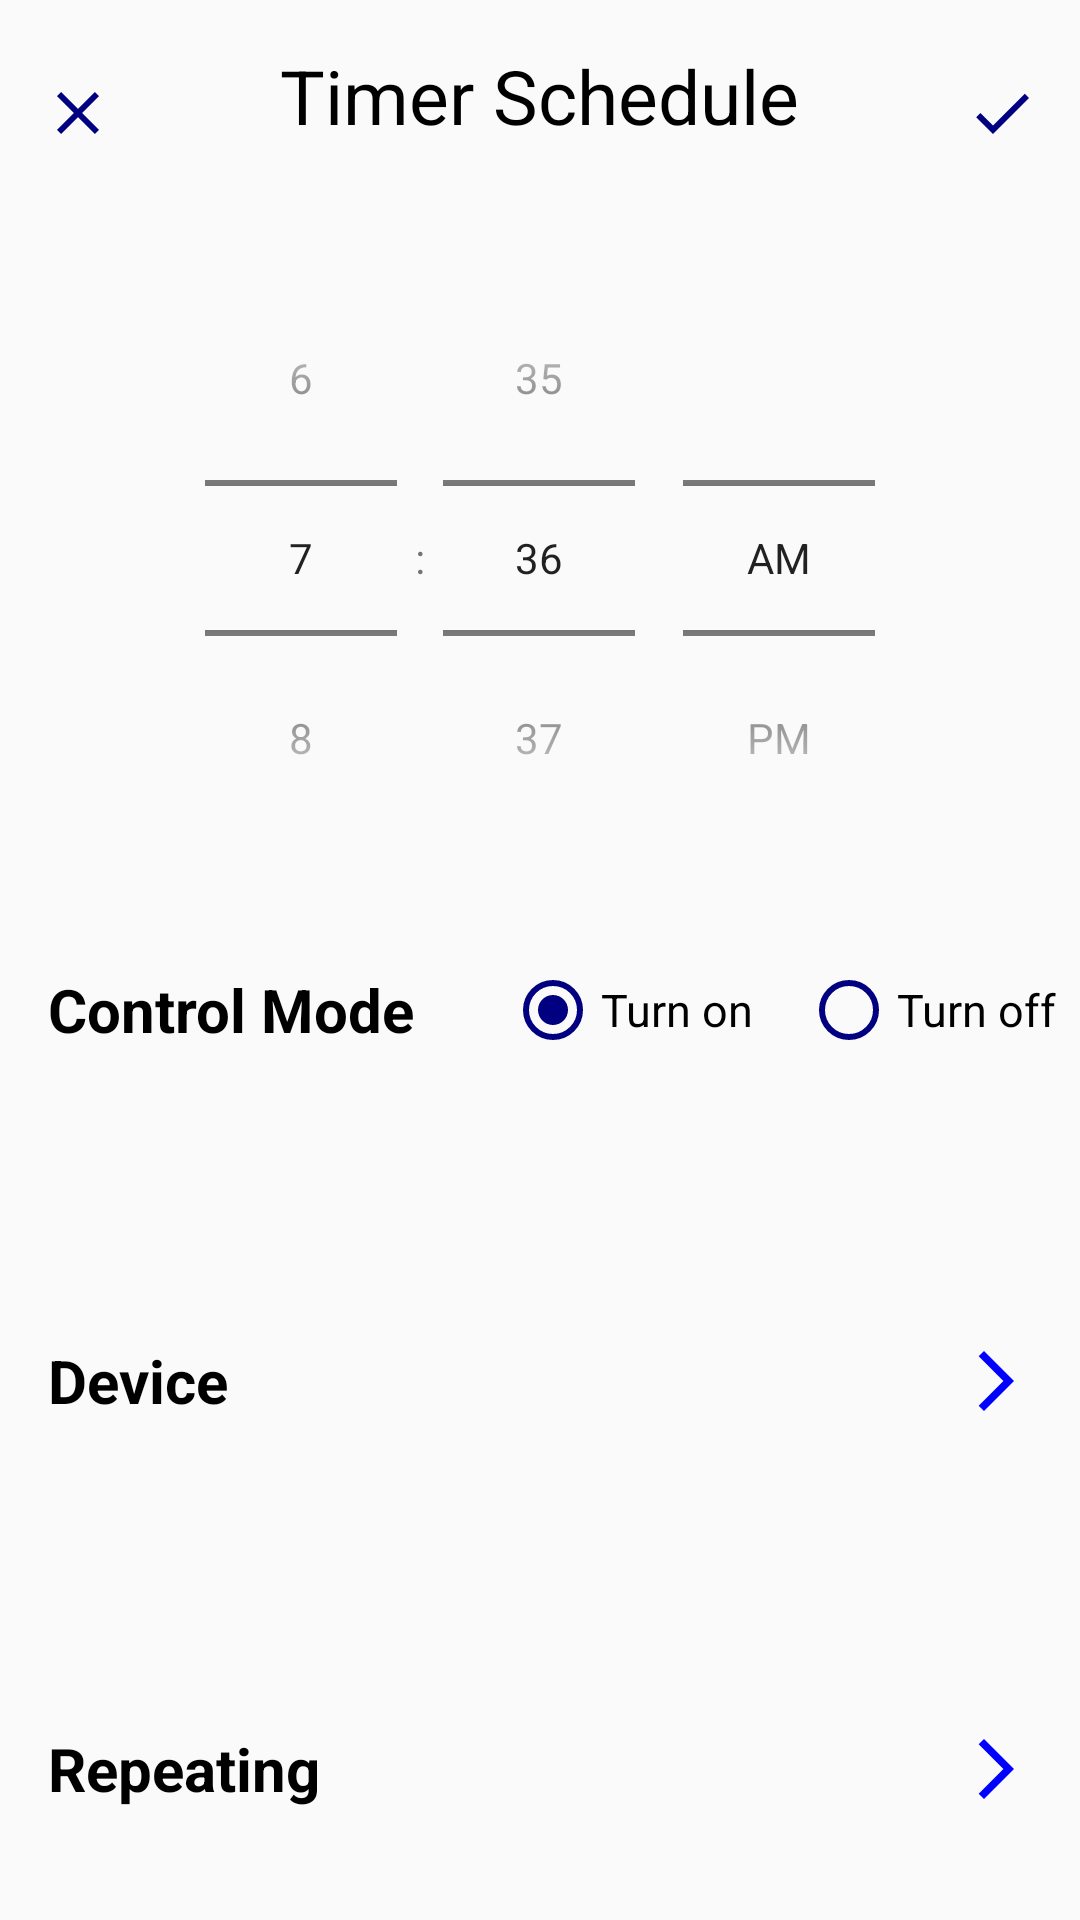

Where to tap for icons on this 1080 x 1920 app screen, as point (x, y):
close: point (78, 113)
done: point (1002, 114)
